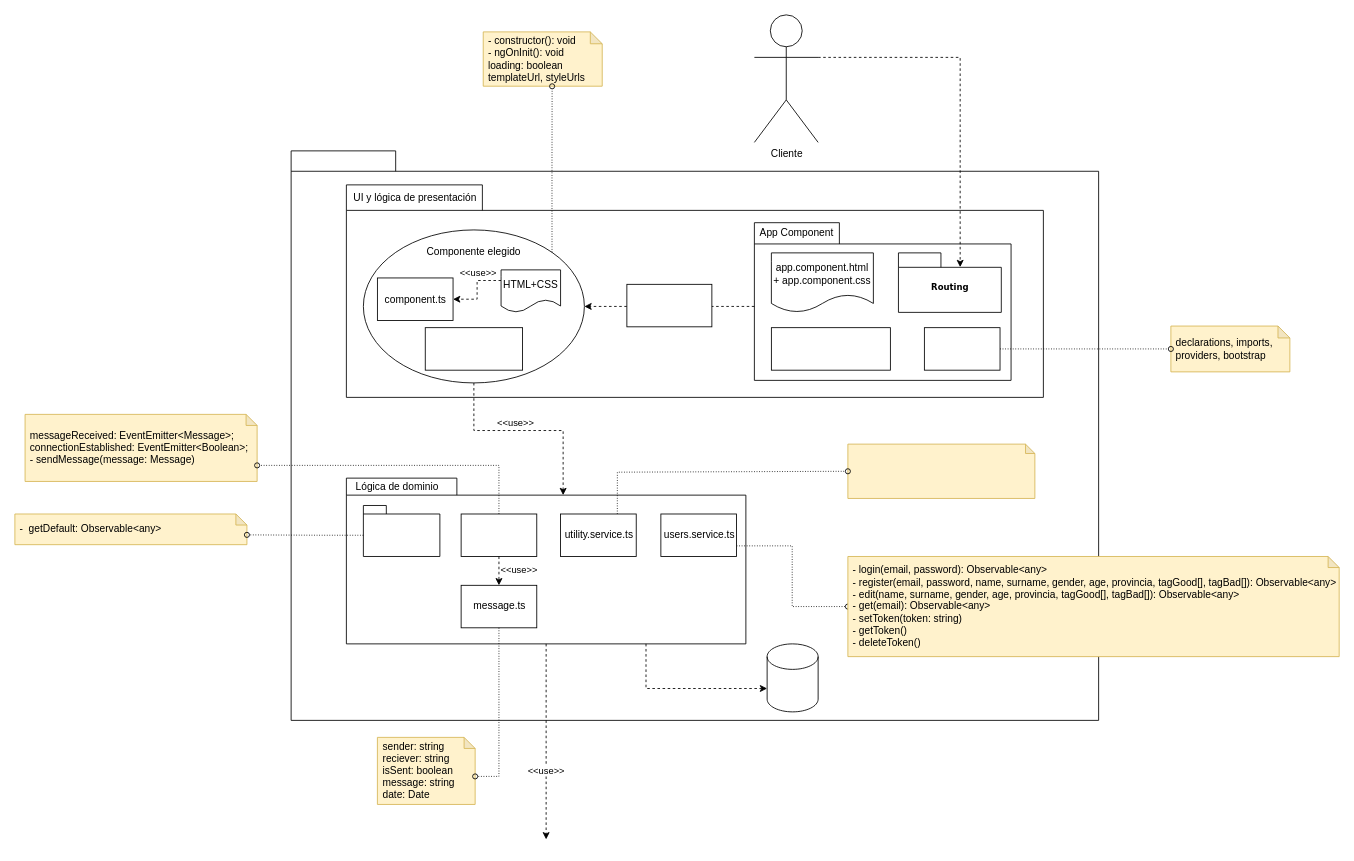
Image size: 1354x861. Some labels were removed from this diagram. The centre of each missing label's shape, as x and y in pixels:
- goHome(): void - openSnack(message, duration=2000): [941,470]
app.component.spec.ts: [830,348]
app.module.ts: [962,348]
Cache local: [792,677]
chat.service.ts: [498,534]
citas.service.ts: [401,530]
component.spec.ts: [473,348]
logged.guard: [669,305]
